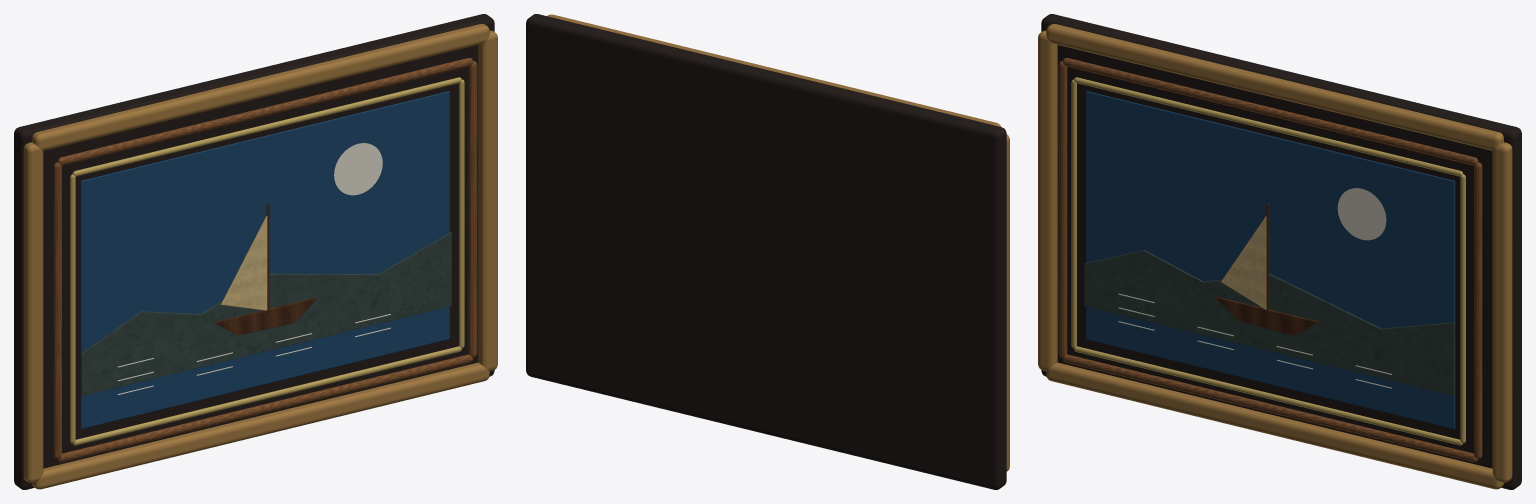
The model's file is framed-painting.glb.
3 renders of one model, left to right at view 1: azimuth 30°, elevation 25°; view 2: azimuth 150°, elevation 25°; view 3: azimuth 330°, elevation 25°, orthographic.
Visible parts, largest first — view 1: framed-painting; view 2: framed-painting; view 3: framed-painting.
Part boxes in pixels (bbox=[...]): framed-painting: bbox=[14, 14, 497, 489]; framed-painting: bbox=[526, 14, 1009, 489]; framed-painting: bbox=[1038, 14, 1521, 489].
Bounding box in the file's own units: 0.72 × 0.52 × 0.05.
Materials: 9 (4 with a texture image).
